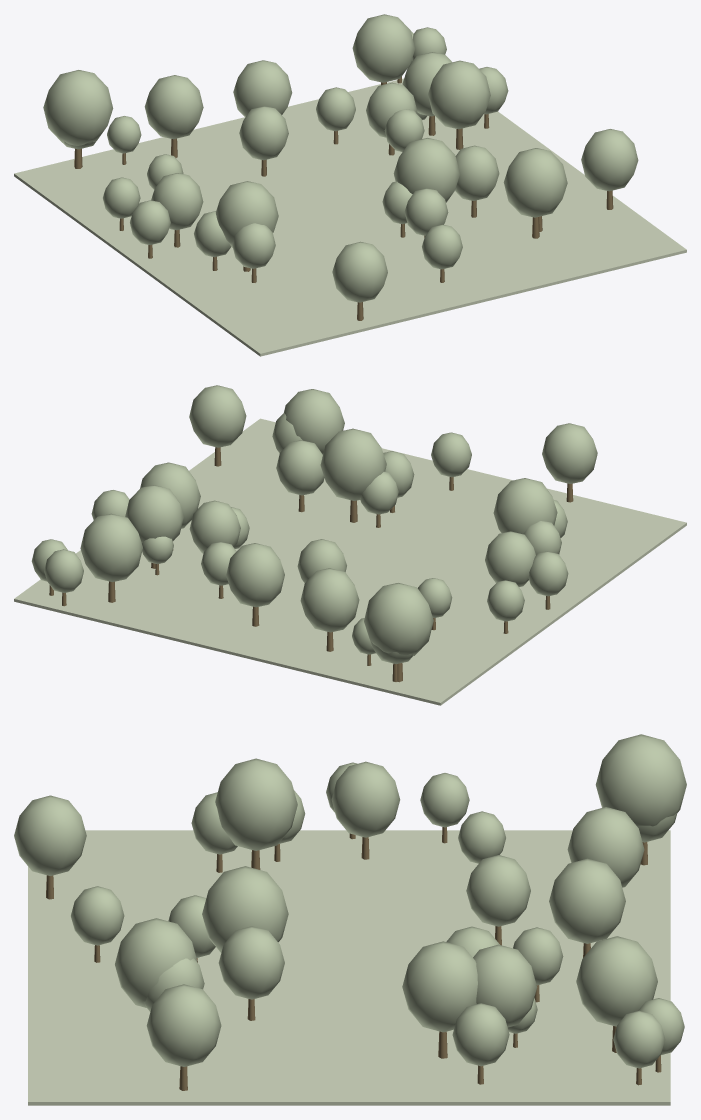
3 renders of one model, top to bottom at view 1: azimuth 30°, elevation 25°; view 2: azimuth 150°, elevation 25°; view 3: azimuth 270°, elevation 25°, orthographic. The views are drawn at different scales.
Parts seen in each view (by area): view 1: terrain, lod-near-13, lod-near-21, lod-near-0, lod-near-17, lod-near-7, lod-near-5, lod-near-18, lod-near-1, lod-near-31, lod-near-9, lod-near-10 (+17 smaller); view 2: terrain, lod-near-13, lod-near-7, lod-near-17, lod-near-9, lod-near-5, lod-near-18, lod-near-31, lod-near-1, lod-near-21, lod-near-3, lod-near-28 (+18 smaller); view 3: terrain, lod-near-13, lod-near-31, lod-near-17, lod-near-0, lod-near-9, lod-near-7, lod-near-18, lod-near-1, lod-near-21, lod-near-28, lod-near-5 (+14 smaller).
Part boxes in pixels (x1,y1,x2,y2): terrain: (14,78,686,356); lod-near-13: (43,70,113,145); lod-near-21: (503,148,567,217); lod-near-0: (428,60,490,129); lod-near-17: (352,14,415,82); lod-near-7: (393,138,459,202); lod-near-5: (144,75,203,139); lod-near-18: (581,129,638,191); lod-near-1: (332,241,387,302); lod-near-31: (216,181,278,247); lod-near-9: (233,60,292,117); lod-near-10: (239,106,288,160); terrain: (14,418,686,705); lod-near-13: (364,583,433,656); lod-near-7: (320,428,386,500); lod-near-17: (80,513,142,582); lod-near-9: (226,543,284,607); lod-near-5: (300,568,359,632); lod-near-18: (189,385,246,447); lod-near-31: (493,478,557,534); lod-near-1: (542,423,597,483); lod-near-21: (284,389,344,454); lod-near-3: (125,485,183,542); lod-near-28: (485,531,535,586); terrain: (28,830,670,1105); lod-near-13: (595,734,686,826); lod-near-31: (215,758,297,850); lod-near-17: (576,936,657,1026); lod-near-0: (402,941,477,1032); lod-near-9: (549,858,625,943); lod-near-7: (202,866,288,952); lod-near-18: (146,984,221,1066); lod-near-1: (14,795,86,875); lod-near-21: (115,918,197,1007); lod-near-28: (331,761,400,837); lod-near-5: (567,807,644,887).
Size of the model in its own units: 32.81 by 7.18 by 33.5.
